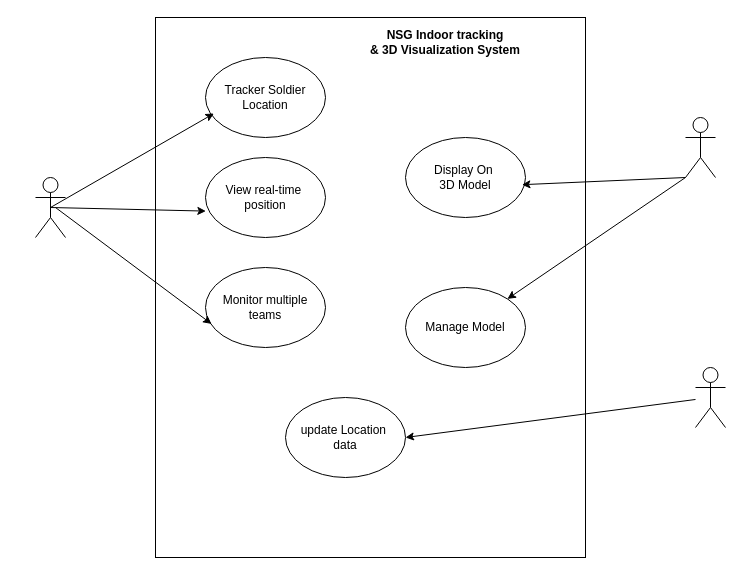
Some shapes in this 746 by 575 pixel diagram are drawn without their labels. The centre of each missing label's shape, as x and y in pixels:
Admin: [700,147]
Commander: [50,207]
Soldier: [710,397]
